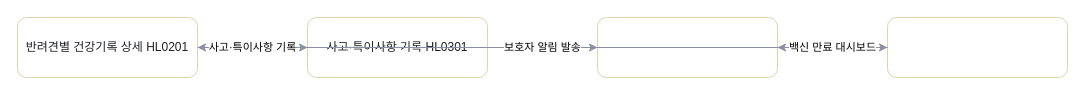
The diagram is 1085 pixels wide and 95 high, and some of its shapes have lost their labels. Each missing label, with the centre of its shape:
백신 만료 대시보드 HL0101: point 977,47
보호자 알림 발송 관리 HL0401: point 687,47
